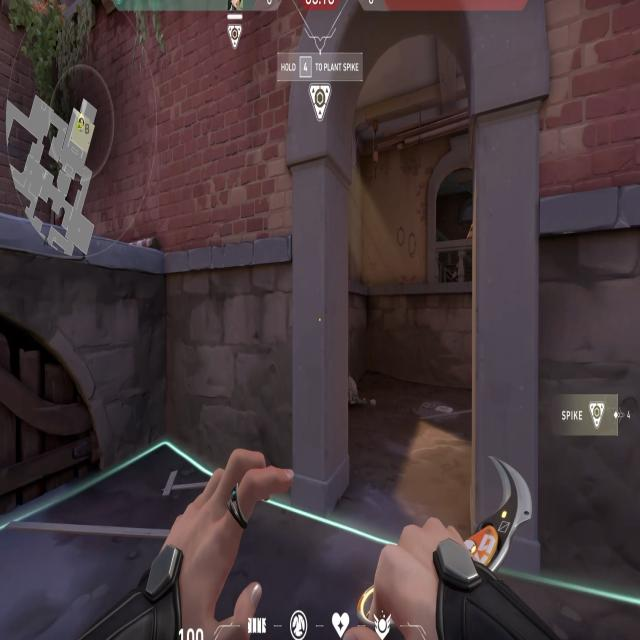B_Boathouse: (277, 0, 568, 572)
